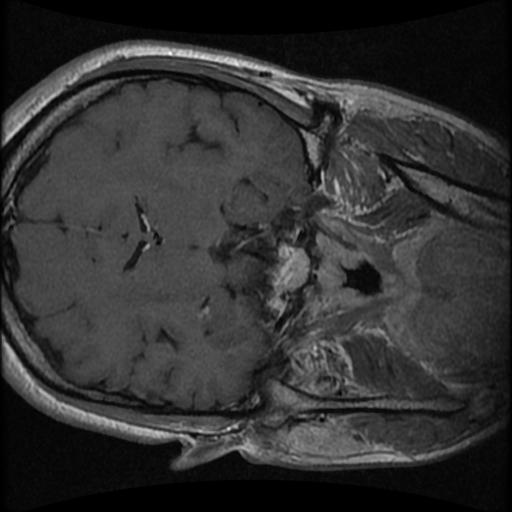pituitary tumour: (262, 242, 312, 313)
